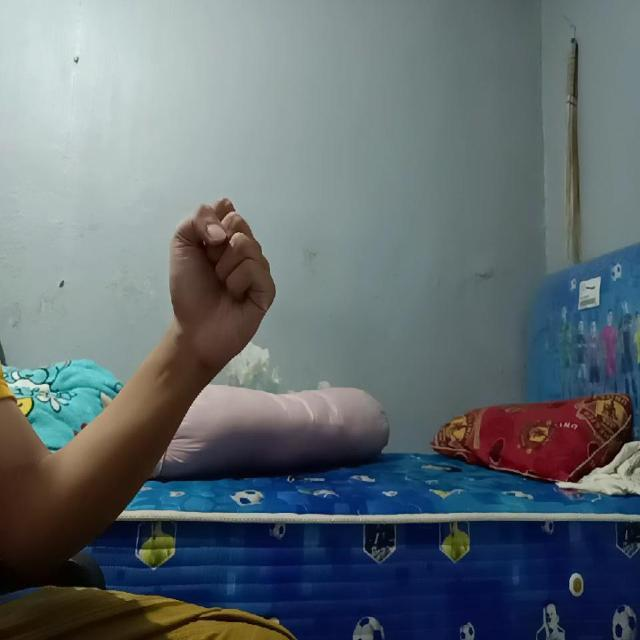fist: (166, 194, 282, 360)
